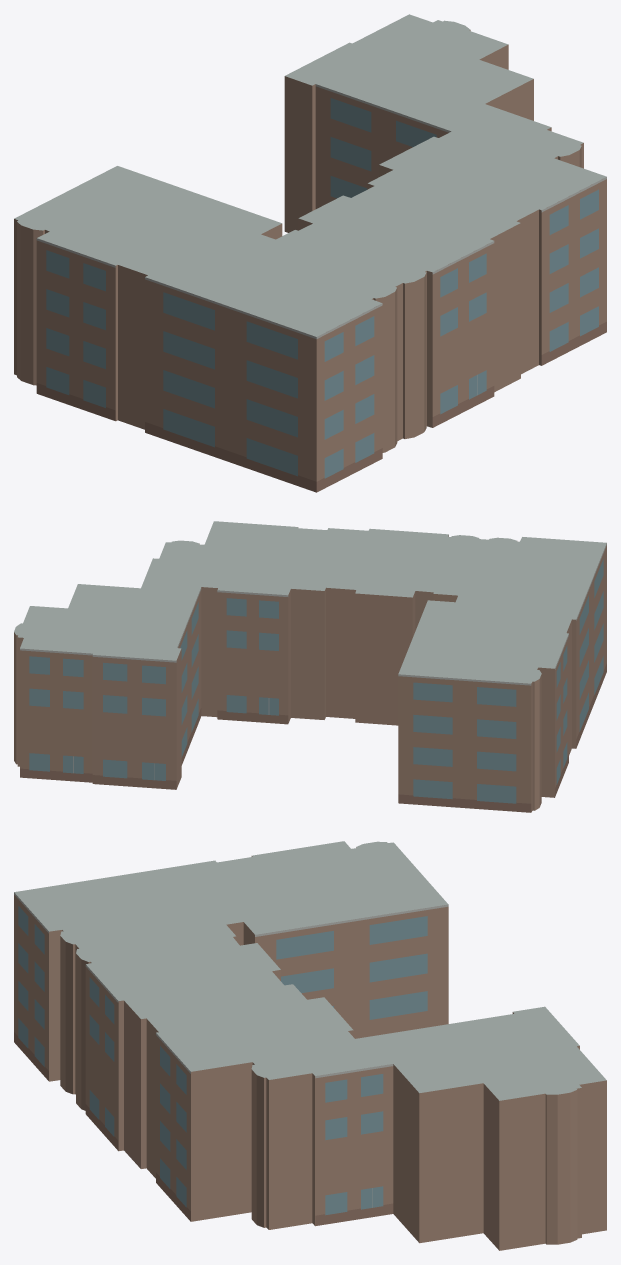
File: survey-upis-32858180.glb
3 views of the same model, one above another, from view 1: azimuth 30°, elevation 25°; view 2: azimuth 150°, elevation 25°; view 3: azimuth 270°, elevation 25° (orthographic). The views are drawn at different scales.
Visible parts, largest first — view 1: survey-upis-32858180.tmp; view 2: survey-upis-32858180.tmp; view 3: survey-upis-32858180.tmp.
Boxes of the visible parts, box(x1,y1,x2,y2) form: survey-upis-32858180.tmp: box(14, 14, 606, 492); survey-upis-32858180.tmp: box(14, 521, 606, 812); survey-upis-32858180.tmp: box(14, 841, 606, 1250).
Bounding box in the file's own units: 61.99 × 16.69 × 59.79.
